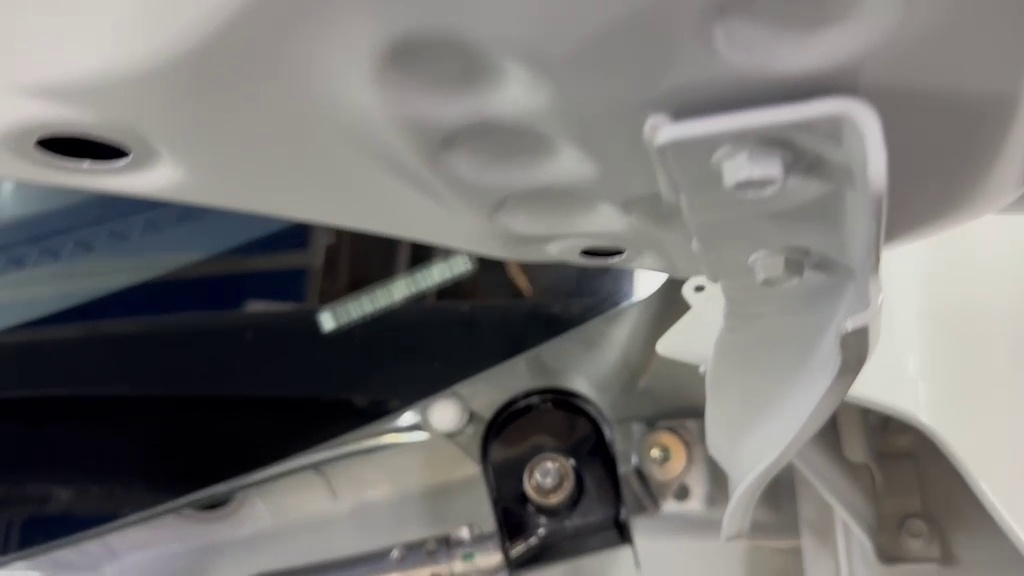barcode: (457, 375, 651, 576)
hinge: (290, 223, 506, 358)
